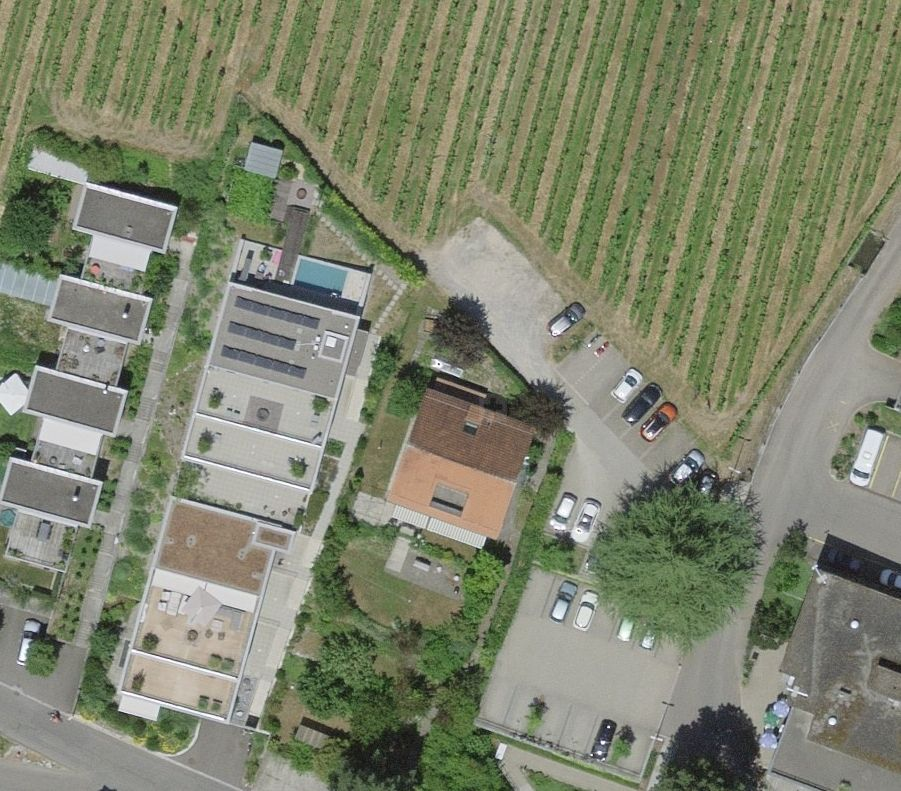solar: (218, 294, 322, 384)
